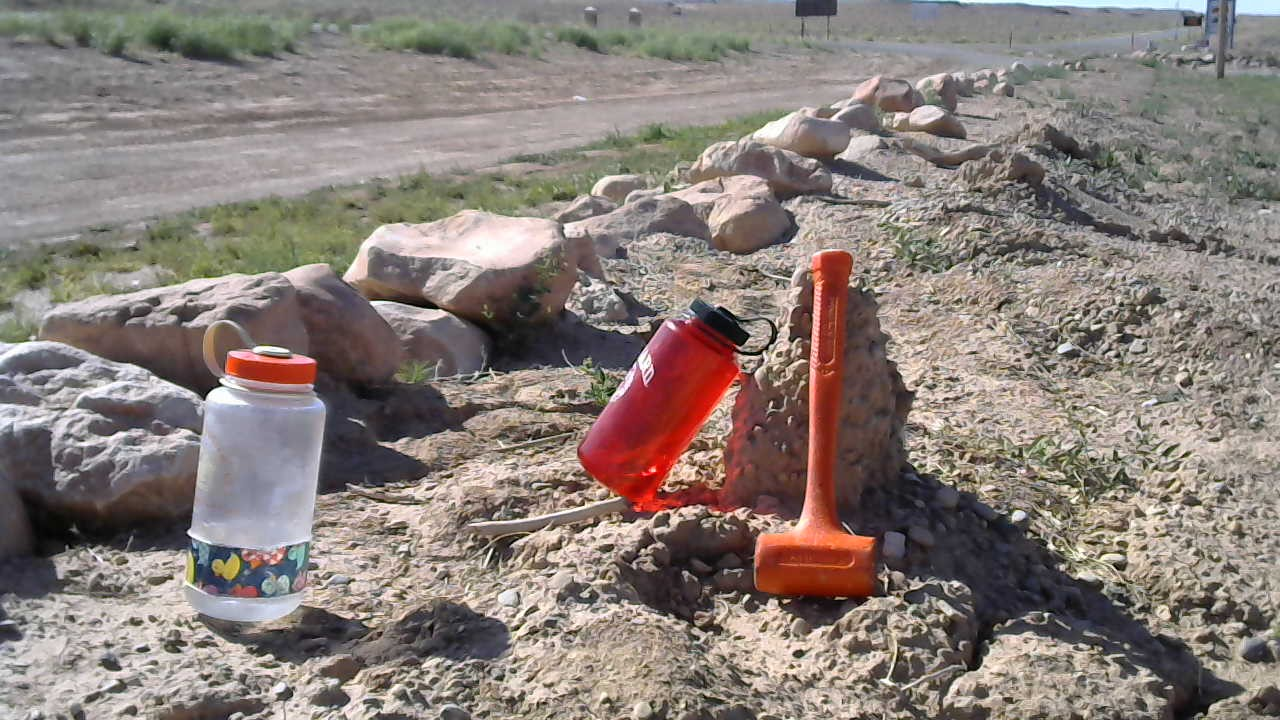bottle: (180, 318, 326, 624), (575, 292, 780, 509)
hammer: (752, 247, 880, 599)
